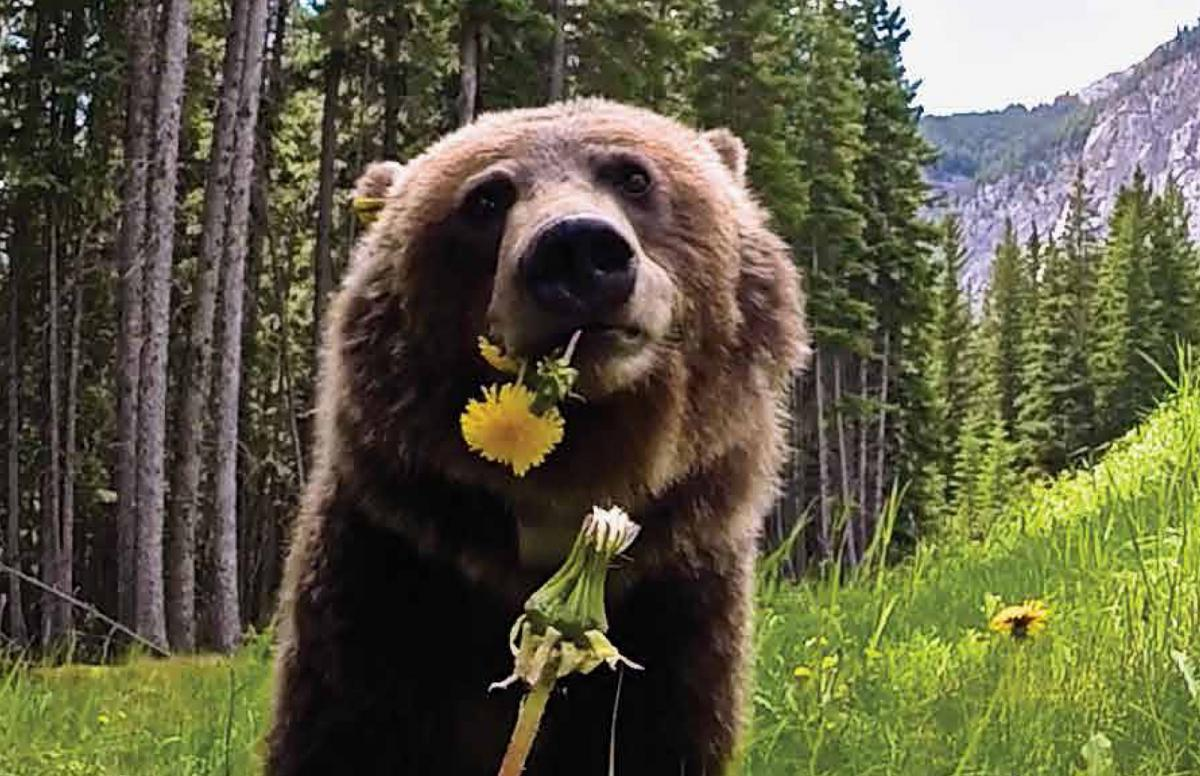bear: (256, 92, 797, 776)
